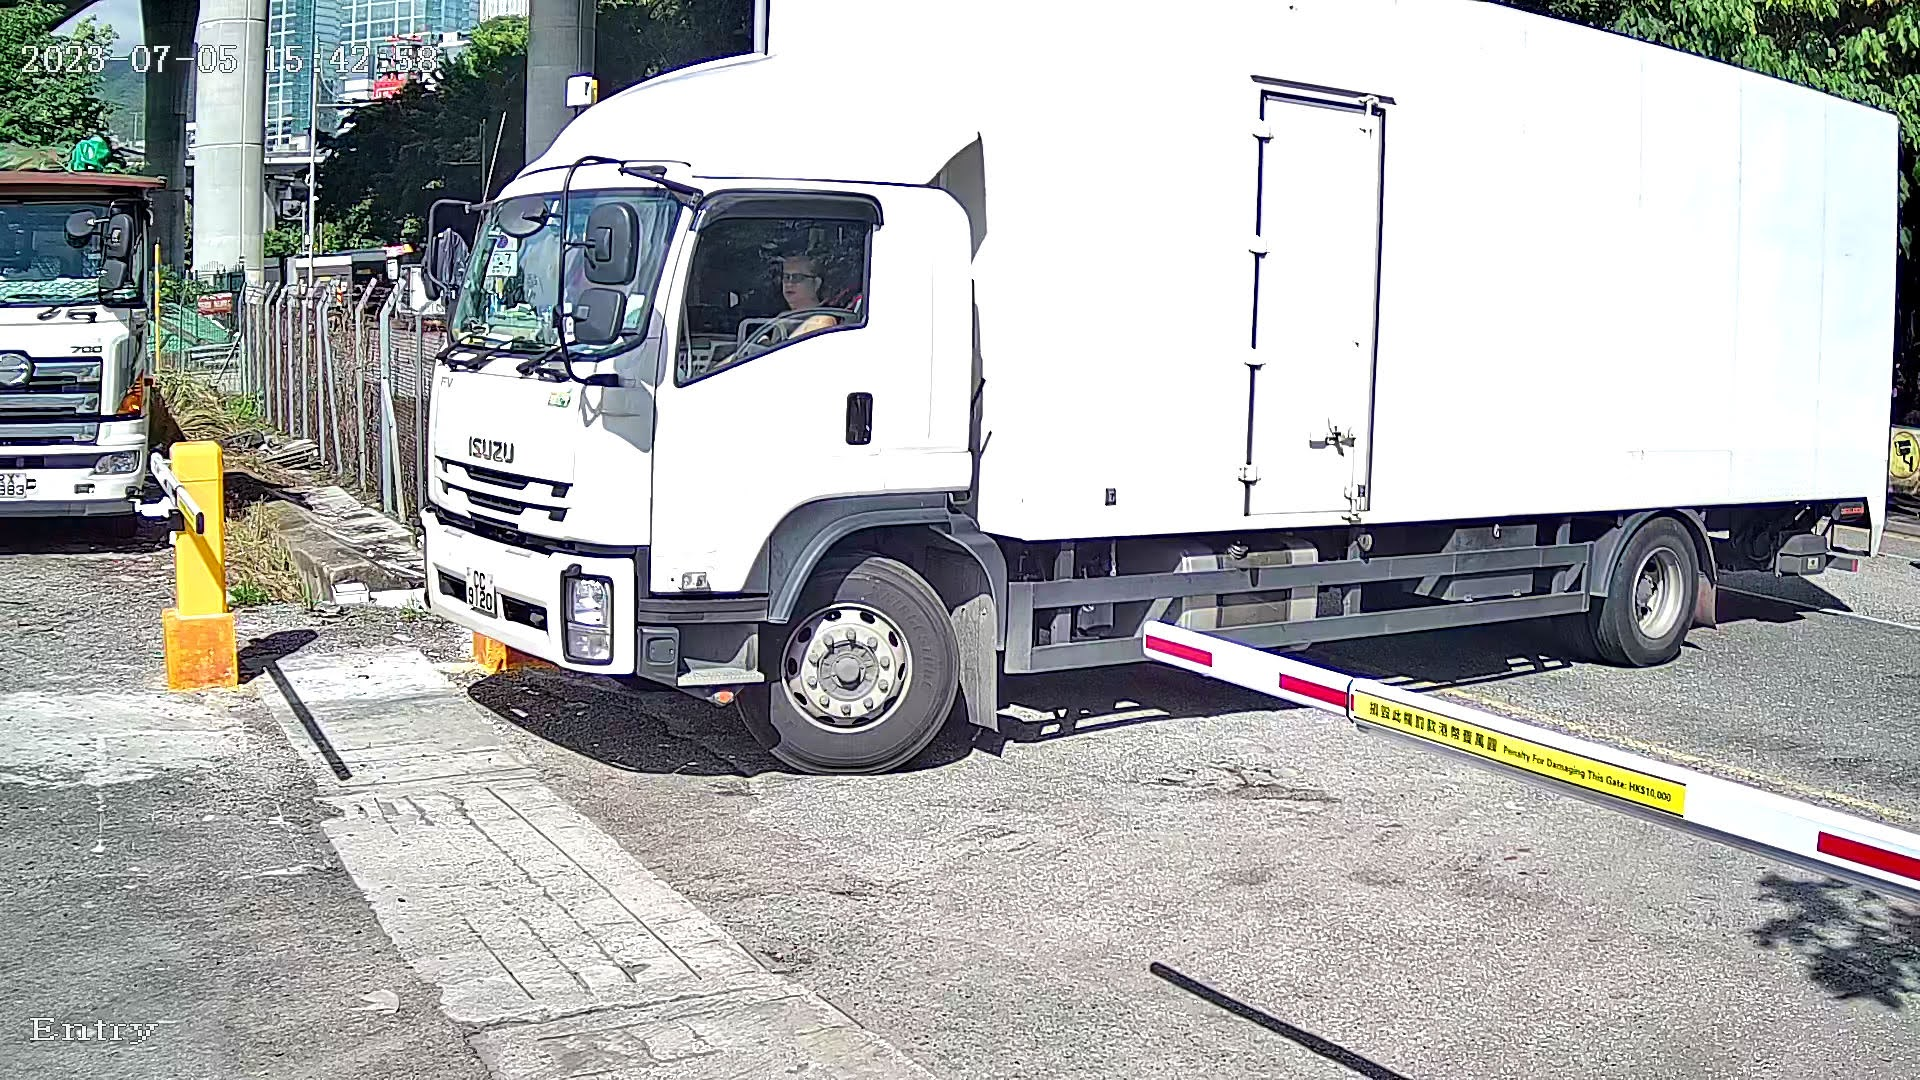truck_large: (375, 12, 1912, 796)
